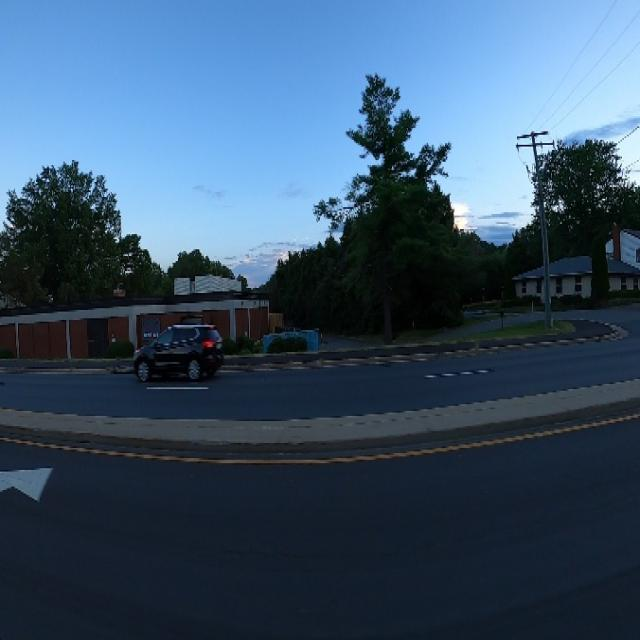cars: (126, 321, 232, 386)
